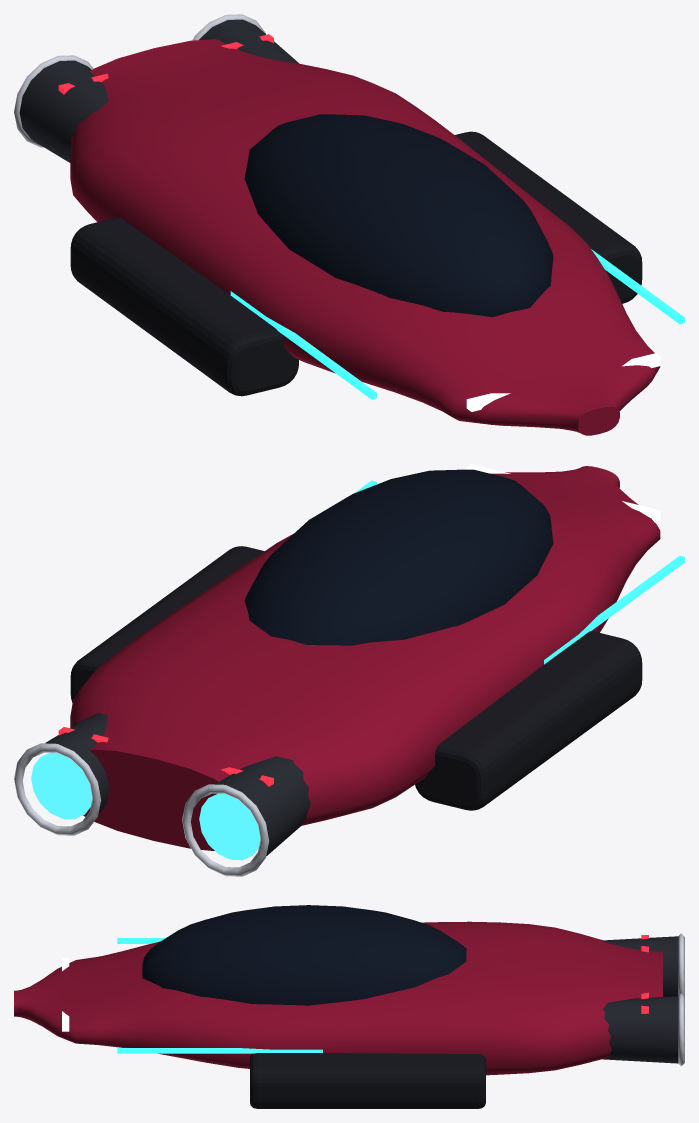
The model's file is tr_aircar.glb.
3 views of the same model, one above another, from view 1: azimuth 30°, elevation 25°; view 2: azimuth 150°, elevation 25°; view 3: azimuth 270°, elevation 25° (orthographic). The views are drawn at different scales.
Visible parts, largest first — view 1: paint, glass, paint2, trim, neon, chrome, light_head; view 2: paint, glass, paint2, trim, thrust, chrome, neon; view 3: paint, glass, paint2, trim, neon, chrome.
Part boxes in pixels (left/top/right/bottom): paint: left=70, top=39, right=660, bottom=435; glass: left=244, top=114, right=553, bottom=317; paint2: left=70, top=131, right=642, bottom=396; trim: left=19, top=19, right=298, bottom=162; neon: left=230, top=249, right=684, bottom=399; chrome: left=14, top=14, right=265, bottom=147; light_head: left=466, top=353, right=660, bottom=411; paint: left=70, top=466, right=660, bottom=850; glass: left=244, top=469, right=553, bottom=645; paint2: left=70, top=546, right=642, bottom=810; trim: left=45, top=712, right=310, bottom=855; thrust: left=31, top=752, right=260, bottom=860; chrome: left=14, top=743, right=269, bottom=876; neon: left=355, top=480, right=684, bottom=664; paint: left=14, top=921, right=662, bottom=1075; glass: left=142, top=905, right=466, bottom=1005; paint2: left=250, top=1053, right=485, bottom=1108; trim: left=602, top=936, right=678, bottom=1063; neon: left=117, top=938, right=322, bottom=1053; chrome: left=678, top=933, right=684, bottom=1066.
Bounding box in the file's own units: 2.38 × 0.94 × 4.55.
